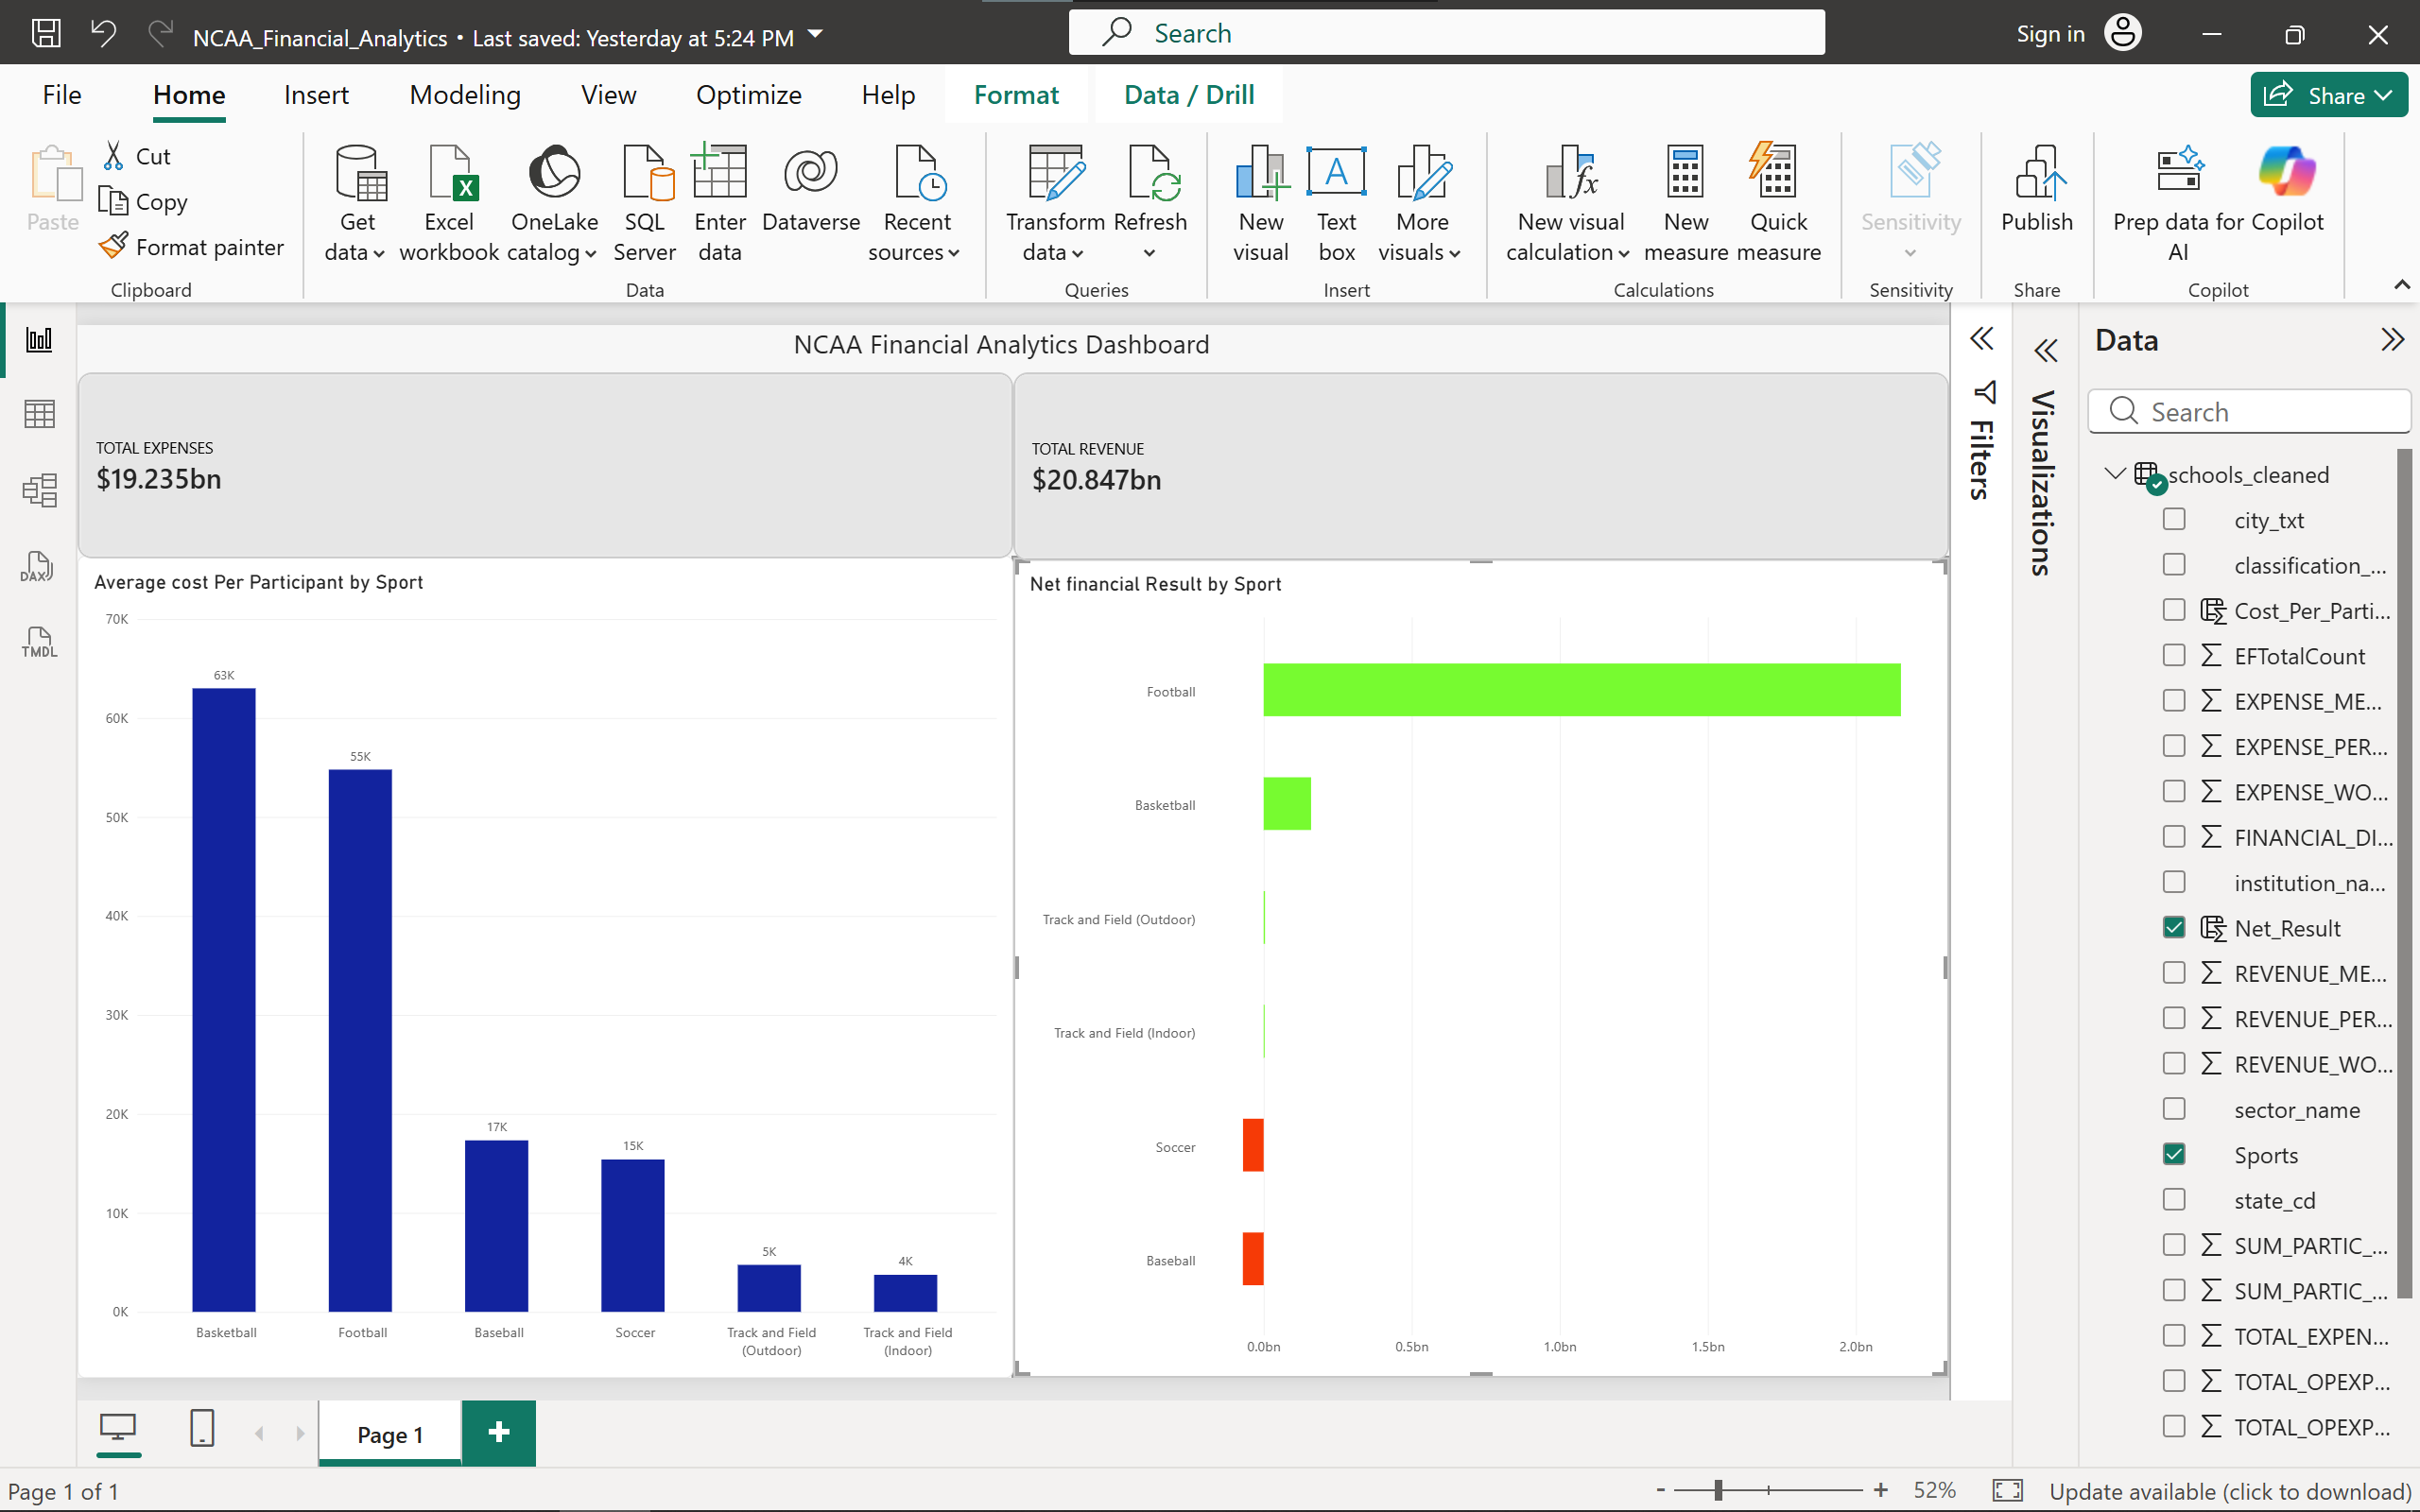

Layout of this report page (visuals, bound fields, positions):
{"tool":"powerbi","page":{"name":"Page 1","canvas":[1920,1080],"ordinal":0},"visuals":[{"type":"clusteredBarChart","fields":{"Category":["schools_cleaned.Sports"],"Y":["Sum(schools_cleaned.Net_Result)"]},"box":[960,238.9,960,841.7],"z":0},{"type":"clusteredColumnChart","fields":{"Category":["schools_cleaned.Sports"],"Y":["Avg(schools_cleaned.Cost_Per_Participants)"]},"box":[0,238.9,960,844],"z":1000},{"type":"cardVisual","fields":{"Data":["Sum(schools_cleaned.TOTAL_REVENUE_ALL)"]},"box":[960,93.3,960,147.9],"z":1001},{"type":"cardVisual","fields":{"Data":["Sum(schools_cleaned.TOTAL_EXPENSE_ALL)"]},"box":[0,93.3,960,145.6],"z":1002},{"type":"textbox","box":[730.2,0,434.5,93.3],"z":1003}]}

Visuals, with their boxes on the page's 1920x1080 design canvas (x1, y1, x2, y2). These are canvas units, not pixel positions in the 2420x1512 screenshot, which may show the page scaled, cropped or inside an application window:
clusteredBarChart - schools_cleaned.Sports x Sum(schools_cleaned.Net_Result): BBox(960, 239, 1920, 1081)
clusteredColumnChart - schools_cleaned.Sports x Avg(schools_cleaned.Cost_Per_Participants): BBox(0, 239, 960, 1083)
cardVisual - Sum(schools_cleaned.TOTAL_REVENUE_ALL): BBox(960, 93, 1920, 241)
cardVisual - Sum(schools_cleaned.TOTAL_EXPENSE_ALL): BBox(0, 93, 960, 239)
textbox: BBox(730, 0, 1165, 93)
